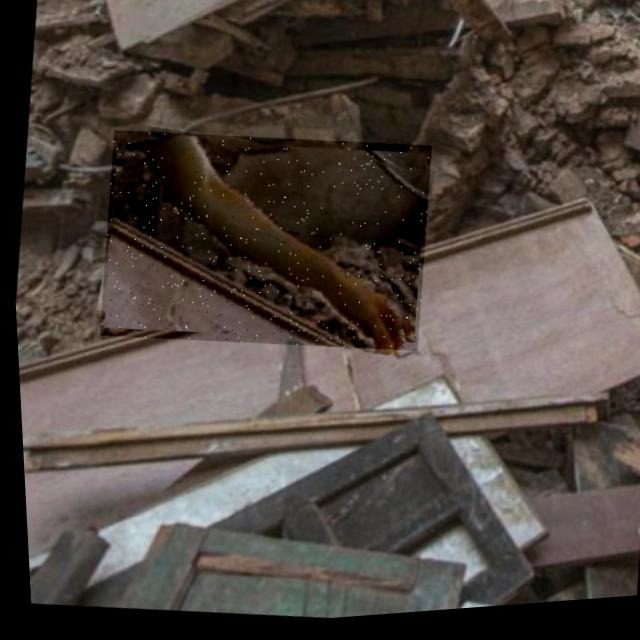Person in Rubble: (87, 113, 438, 375)
